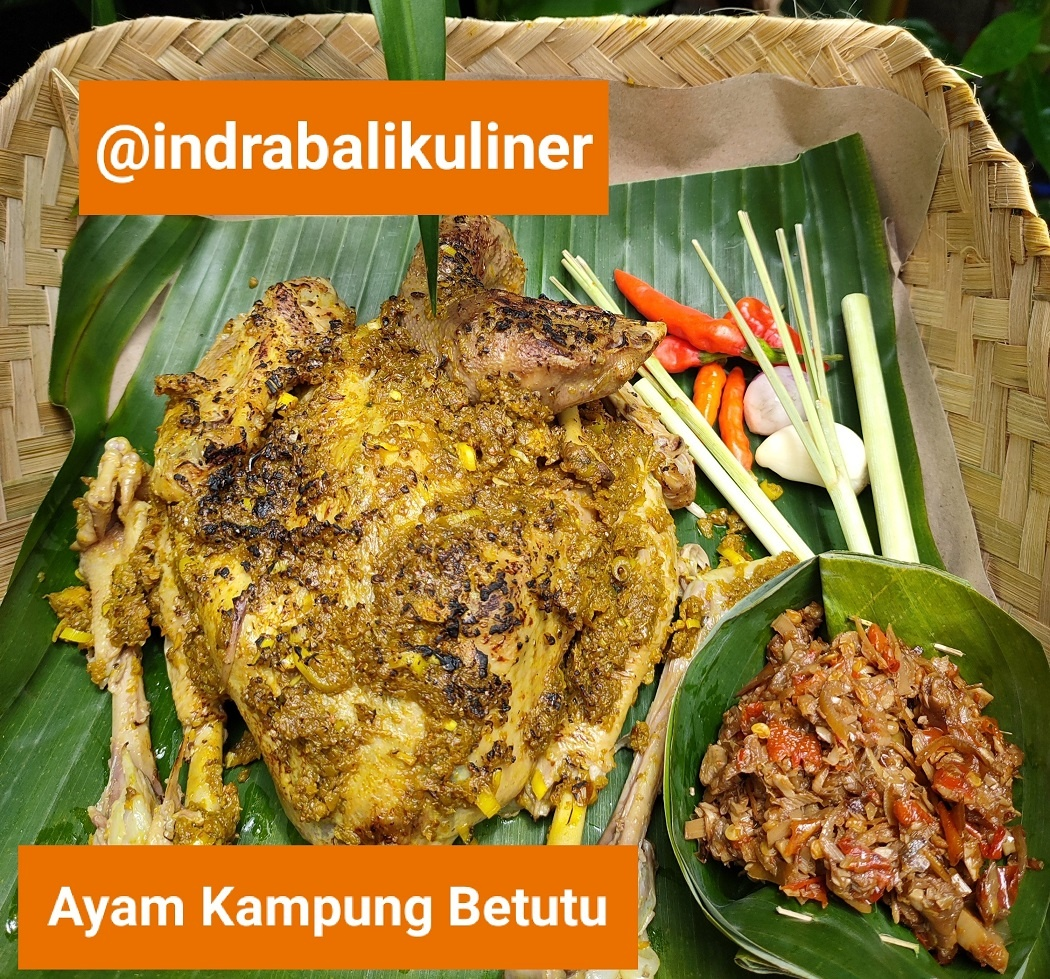ayam_betutu: (73, 284, 674, 842)
